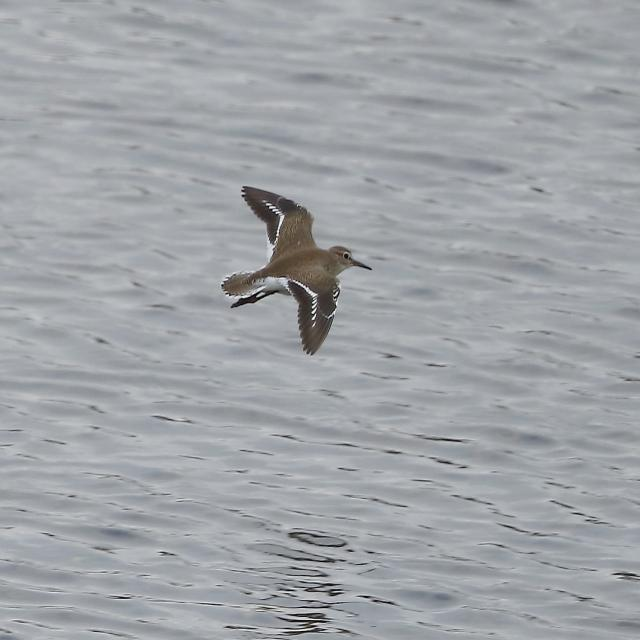bird: (220, 185, 376, 358)
